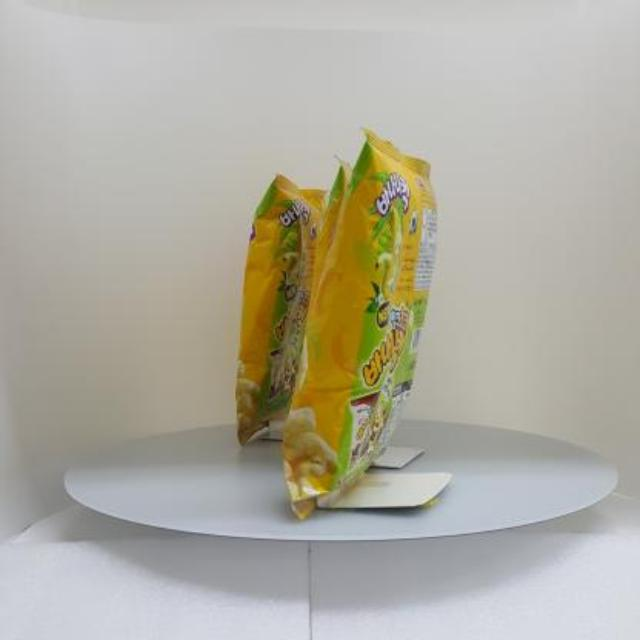snack_bag: (224, 107, 456, 531)
